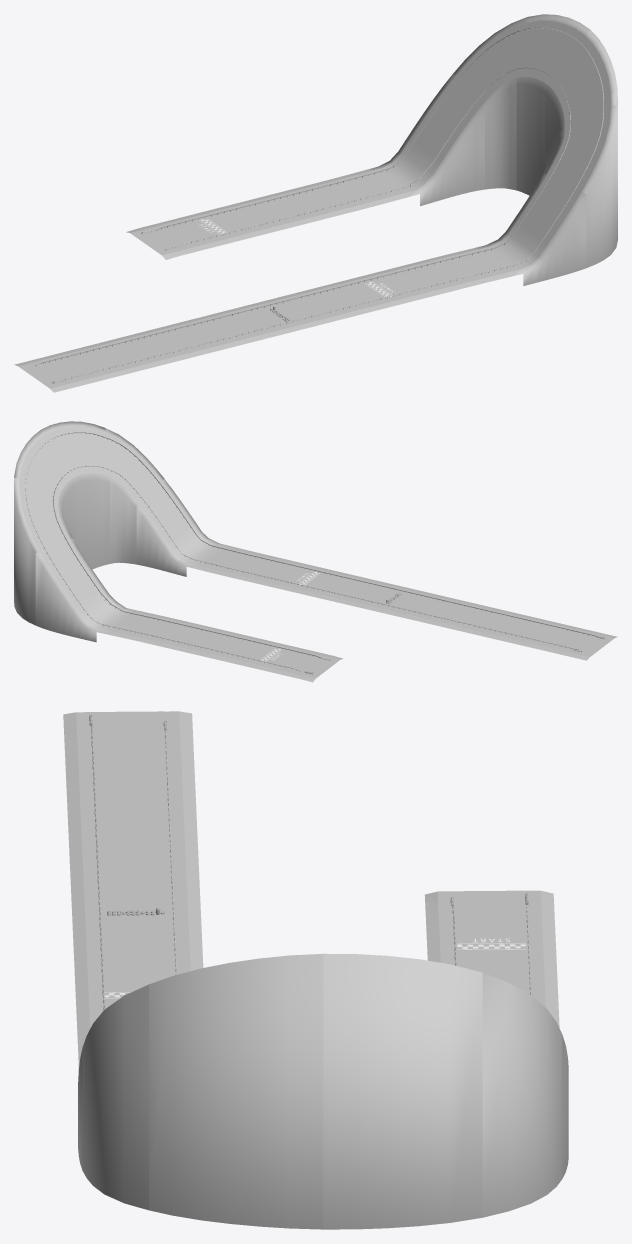
Rendered from Road30D50.fbx.
3 views of the same model, one above another, from view 1: azimuth 30°, elevation 25°; view 2: azimuth 150°, elevation 25°; view 3: azimuth 270°, elevation 25° (orthographic). The views are drawn at different scales.
Visible parts, largest first — view 1: Markers0.011, SCutL7.011, SCutR3.011, Markers7.011, SCutR2.011, Markers2.011, SCutL5.011, SCutL6.011, Markers1.011, Markers8.011, Markers4.011, SCutR0.011 (+20 smaller); view 2: Markers0.011, SCutR7.011, SCutL4.011, Markers7.011, Markers2.011, SCutR6.011, SCutL2.011, Markers1.011, SCutL3.011, Markers8.011, Markers4.011, SCutL0.011 (+19 smaller); view 3: SCutR4.011, SCutR5.011, SCutR6.011, Markers0.011, SCutR3.011, Markers1.011, SCutR0.011, SCutL0.011, Markers9.011, SCutR1.011, Markers8.011, SCutR9.011 (+4 smaller).
Part boxes in pixels (box(x1,y1,x2,y2)): Markers0.011: box(23, 308, 286, 385); SCutL7.011: box(361, 102, 484, 207); SCutR3.011: box(577, 104, 617, 267); Markers7.011: box(338, 80, 476, 200); SCutR2.011: box(452, 189, 586, 288); Markers2.011: box(429, 177, 576, 281); SCutL5.011: box(516, 68, 553, 195); SCutL6.011: box(477, 70, 517, 190); Markers1.011: box(264, 266, 451, 323); Markers8.011: box(211, 184, 360, 232); Markers4.011: box(554, 43, 604, 125); SCutR0.011: box(45, 324, 294, 392); Markers0.011: box(388, 593, 610, 654); SCutR7.011: box(35, 550, 146, 642); SCutL4.011: box(69, 466, 110, 569); Markers7.011: box(44, 541, 163, 635); Markers2.011: box(143, 484, 264, 573); SCutR6.011: box(14, 477, 43, 625); SCutL2.011: box(136, 501, 247, 579); Markers1.011: box(248, 560, 404, 606); SCutL3.011: box(110, 471, 142, 564); Markers8.011: box(147, 622, 272, 660); Markers4.011: box(49, 433, 109, 471); SCutL0.011: box(381, 606, 592, 660); SCutR4.011: box(149, 954, 323, 1229); SCutR5.011: box(323, 953, 482, 1229); SCutR6.011: box(482, 973, 562, 1217); Markers0.011: box(91, 711, 172, 910); SCutR3.011: box(82, 984, 148, 1210); Markers1.011: box(99, 910, 175, 1009); SCutR0.011: box(63, 712, 98, 912); SCutL0.011: box(164, 711, 200, 911); Markers9.011: box(452, 890, 528, 953); SCutR1.011: box(72, 910, 103, 1048); Markers8.011: box(455, 953, 530, 994); SCutR9.011: box(526, 890, 556, 954).
Bounding box in the file's own units: 24119 × 6309 × 10295.
